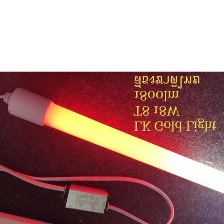light_bulb: (4, 80, 223, 199)
